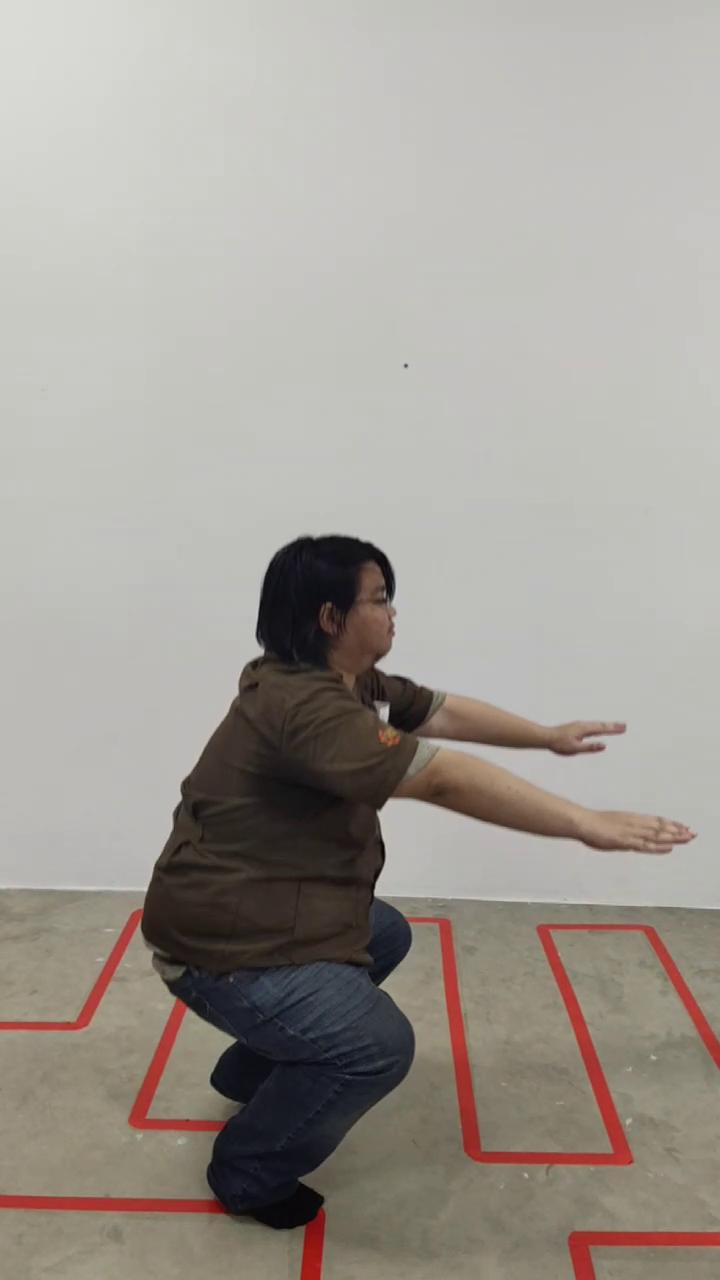squat down: (140, 533, 685, 1240)
